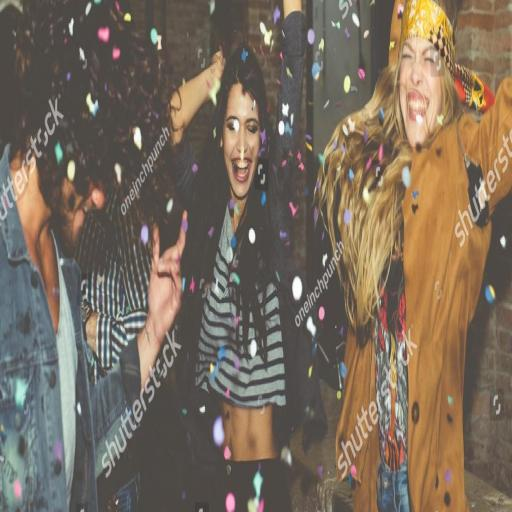person: (318, 0, 511, 511), (0, 0, 186, 510), (172, 0, 326, 510)
